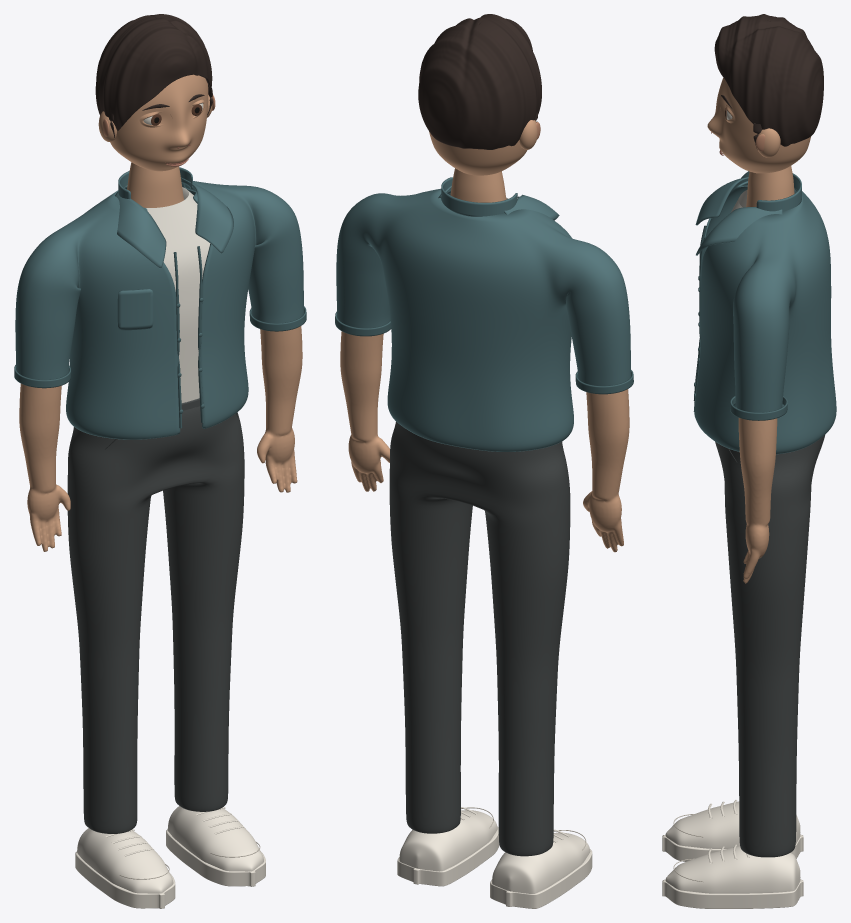
Rendered from male-base-e.glb.
3 views of the same model, side by side, from view 1: azimuth 30°, elevation 25°; view 2: azimuth 150°, elevation 25°; view 3: azimuth 270°, elevation 25° (orthographic). The views are drawn at different scales.
Parts seen in each view (by area): view 1: E export 50, E export 49, E export 7, E export 22, E export 37, E export 42, E export 34, E export 45, E export 61, E export 58, E export 3, E export 46 (+3 smaller); view 2: E export 49, E export 50, E export 7, E export 34, E export 37, E export 61, E export 45, E export 22, E export 43, E export 60, E export 3, E export 36; view 3: E export 49, E export 50, E export 7, E export 45, E export 34, E export 22, E export 61, E export 60, E export 3, E export 46, E export 43, E export 58 (+3 smaller).
Part boxes in pixels (box(x1,y1,x2,y2)): E export 50: box(67, 406, 244, 833); E export 49: box(15, 181, 303, 439); E export 7: box(95, 14, 212, 130); E export 22: box(110, 74, 208, 171); E export 37: box(19, 383, 70, 551); E export 42: box(146, 187, 210, 402); E export 34: box(257, 326, 302, 492); E export 45: box(167, 806, 263, 871); E export 61: box(77, 828, 173, 893); E export 58: box(115, 192, 166, 268); E export 3: box(127, 162, 183, 207); E export 46: box(181, 177, 233, 253); E export 49: box(336, 188, 630, 451); E export 50: box(389, 421, 570, 856); E export 7: box(418, 14, 541, 149); E export 34: box(340, 331, 389, 491); E export 37: box(583, 389, 629, 552); E export 61: box(492, 832, 590, 893); E export 45: box(399, 810, 497, 871); E export 22: box(429, 131, 527, 175); E export 43: box(490, 849, 592, 908); E export 60: box(397, 826, 499, 886); E export 3: box(450, 168, 506, 202); E export 36: box(441, 177, 517, 216); E export 49: box(694, 171, 836, 454); E export 50: box(715, 435, 824, 857); E export 7: box(714, 14, 823, 146); E export 45: box(665, 846, 800, 893); E export 34: box(738, 418, 777, 583); E export 22: box(707, 78, 810, 173); E export 61: box(665, 801, 800, 848); E export 60: box(662, 879, 803, 908); E export 3: box(746, 166, 794, 207); E export 46: box(696, 207, 782, 255); E export 43: box(662, 834, 803, 861); E export 58: box(695, 177, 748, 225).
Size of the model in its own units: 0.6412 by 1.81 by 0.3352.
